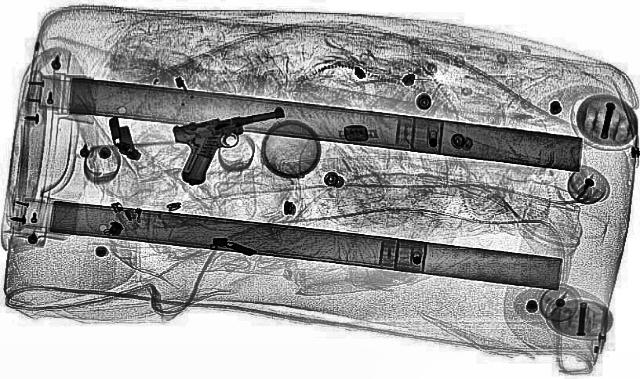Gun: (154, 106, 316, 184)
